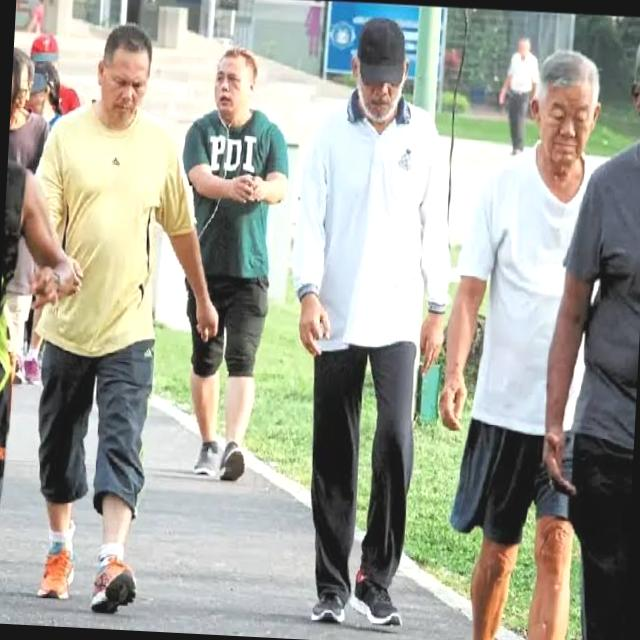Person: (27, 19, 239, 630), (271, 6, 466, 640), (433, 25, 608, 640), (162, 40, 304, 490)
